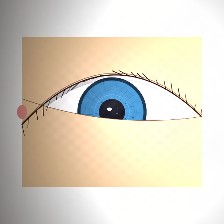pinguecula_lesion: (45, 102, 91, 138)
